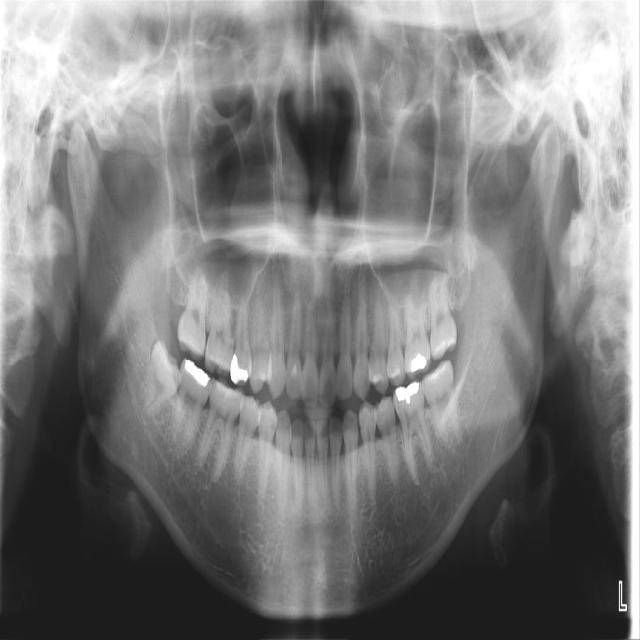Filling: (230, 350, 252, 386), (183, 357, 211, 385), (395, 383, 419, 405), (214, 381, 243, 399), (408, 351, 428, 375)
impacted tooth: (133, 339, 182, 418)
